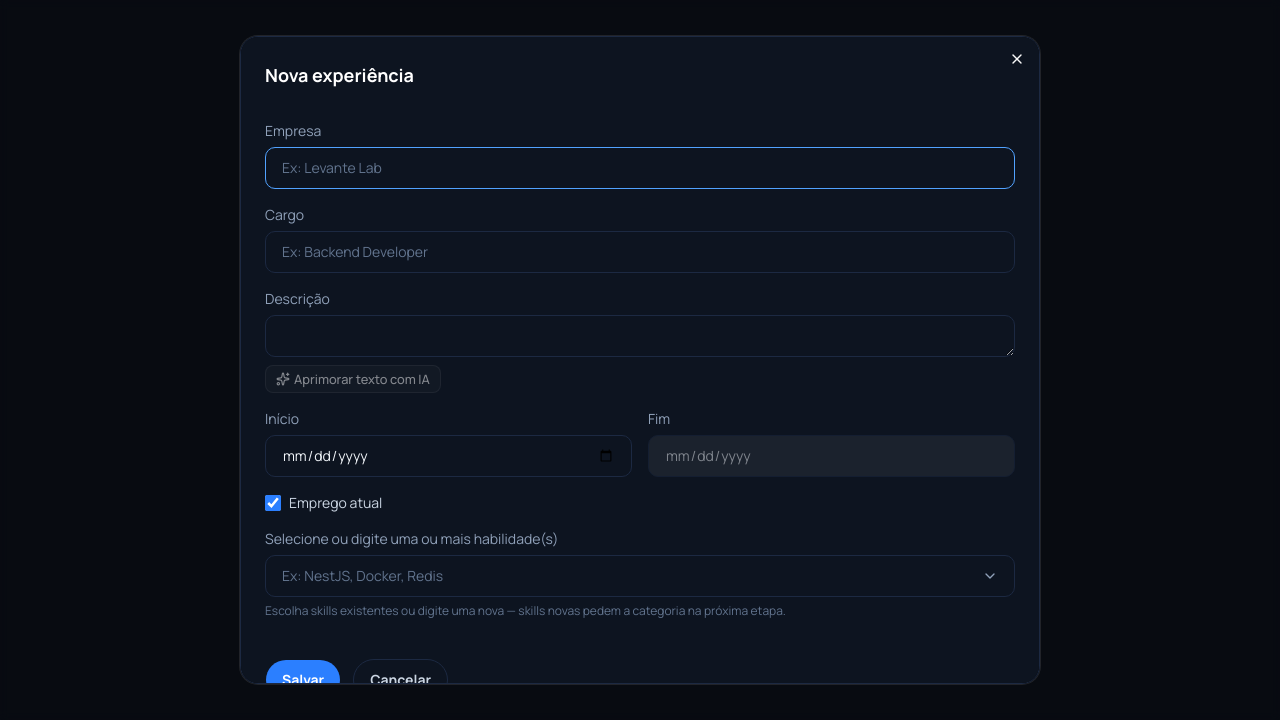
Test: ExperienceModal › shows an error and keeps the modal open when the api fails
Type "Levante Lab" into the field with placeholder "Ex: Levante Lab" at point(640, 168), box 265,147 -> 1015,189
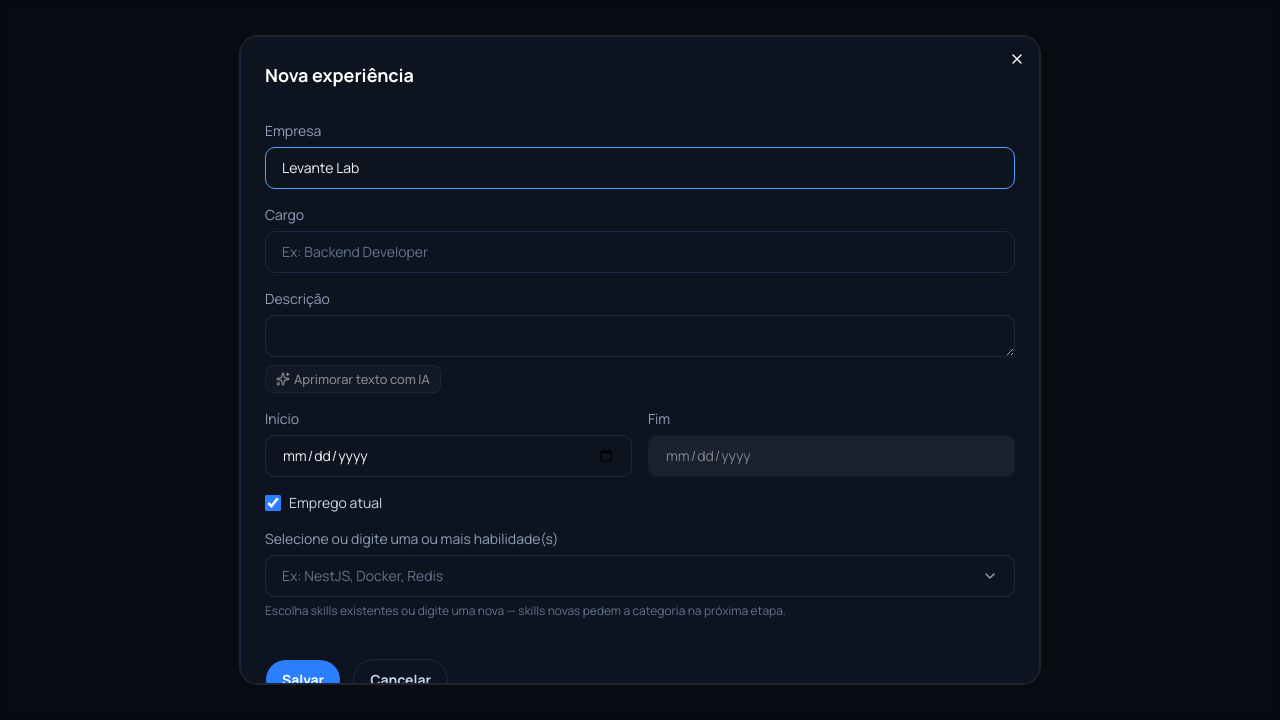
Type "Backend Developer" into the field with placeholder "Ex: Backend Developer" at point(640, 252), box 265,231 -> 1015,273
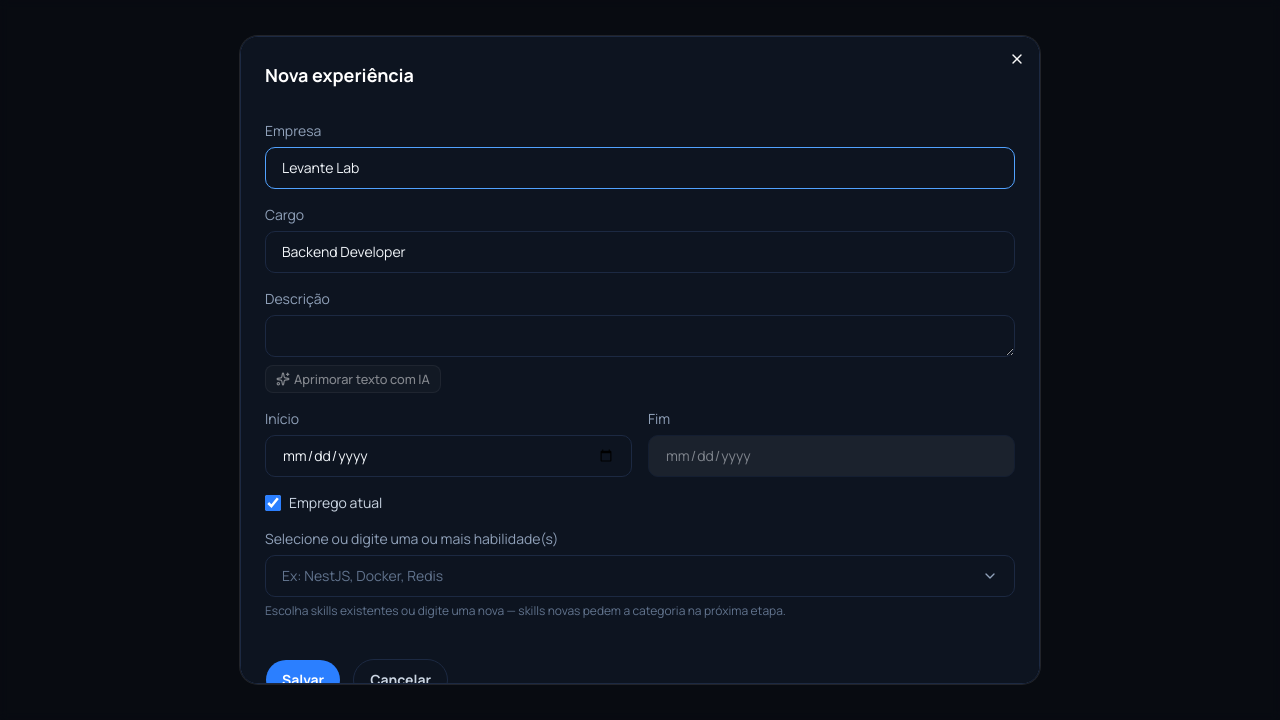
Type "APIs com NestJS e PostgreSQL." into the text box labelled "Descrição" at point(640, 336), box 265,315 -> 1015,357
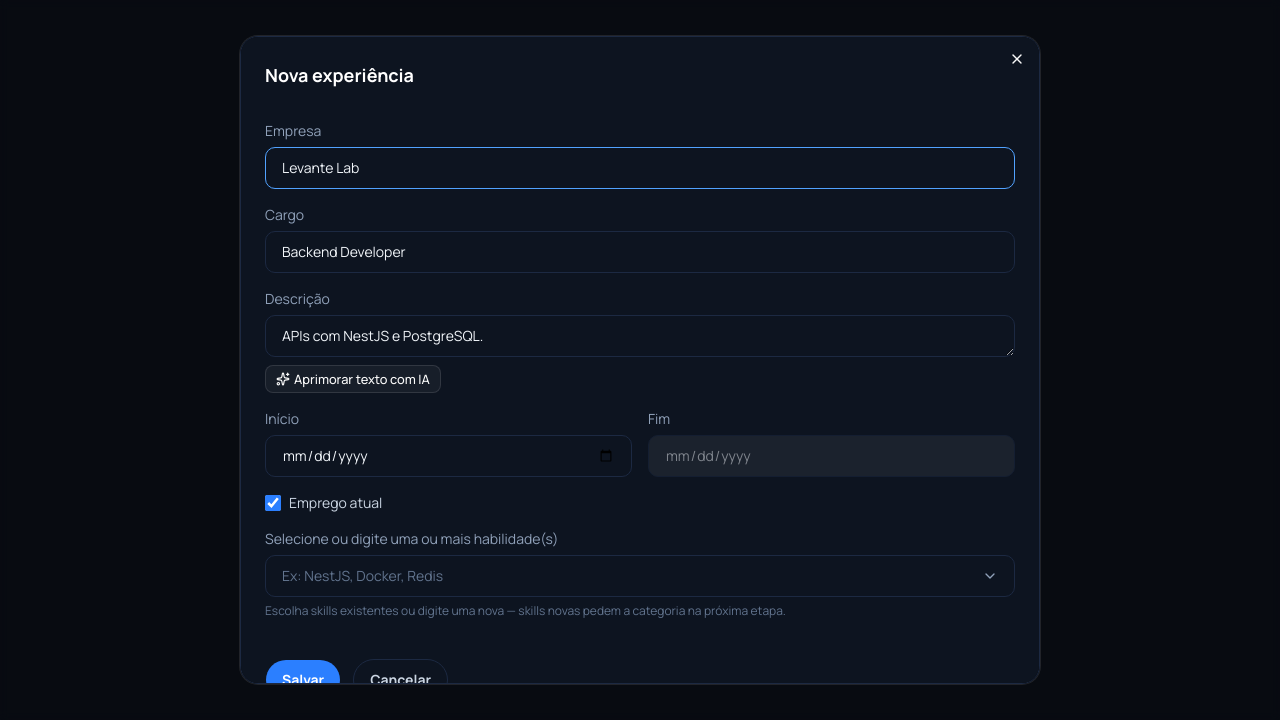
Type "2023-01-15" into the date field labelled "Início" at point(448, 456), box 265,435 -> 632,477
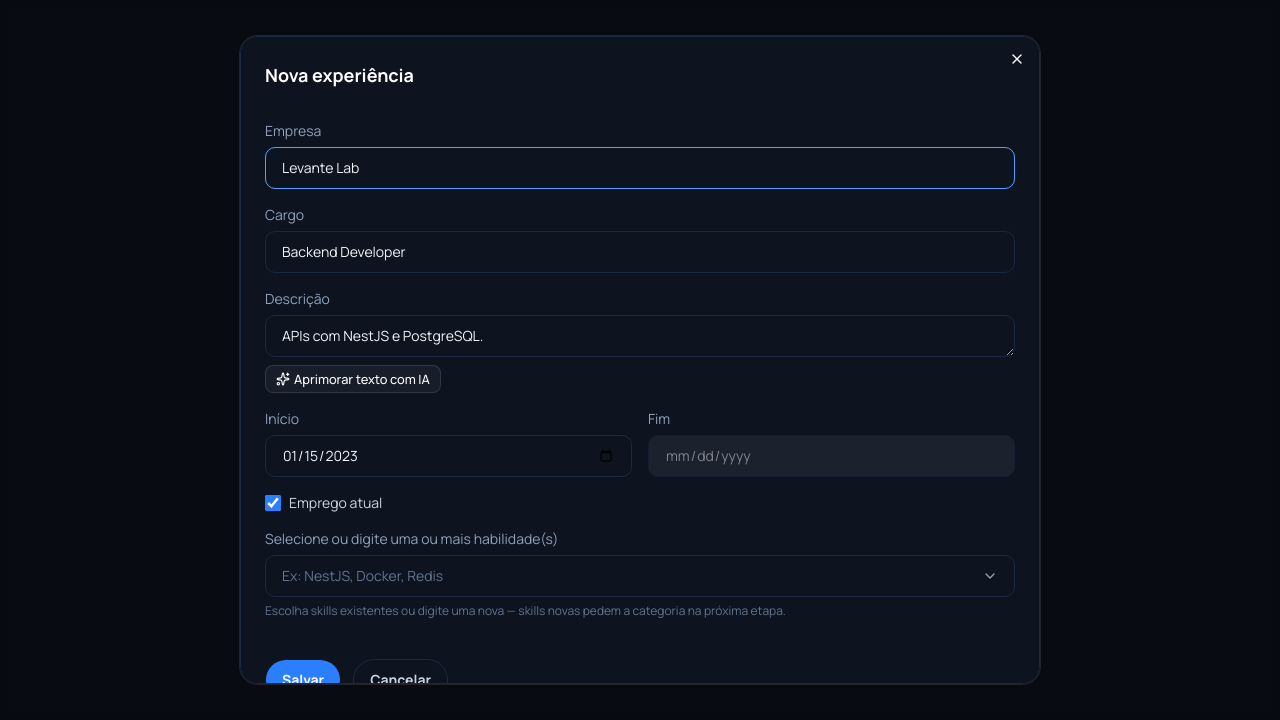
Click the button "Salvar" at point(303, 680), box 265,659 -> 341,701
(page scrolled)
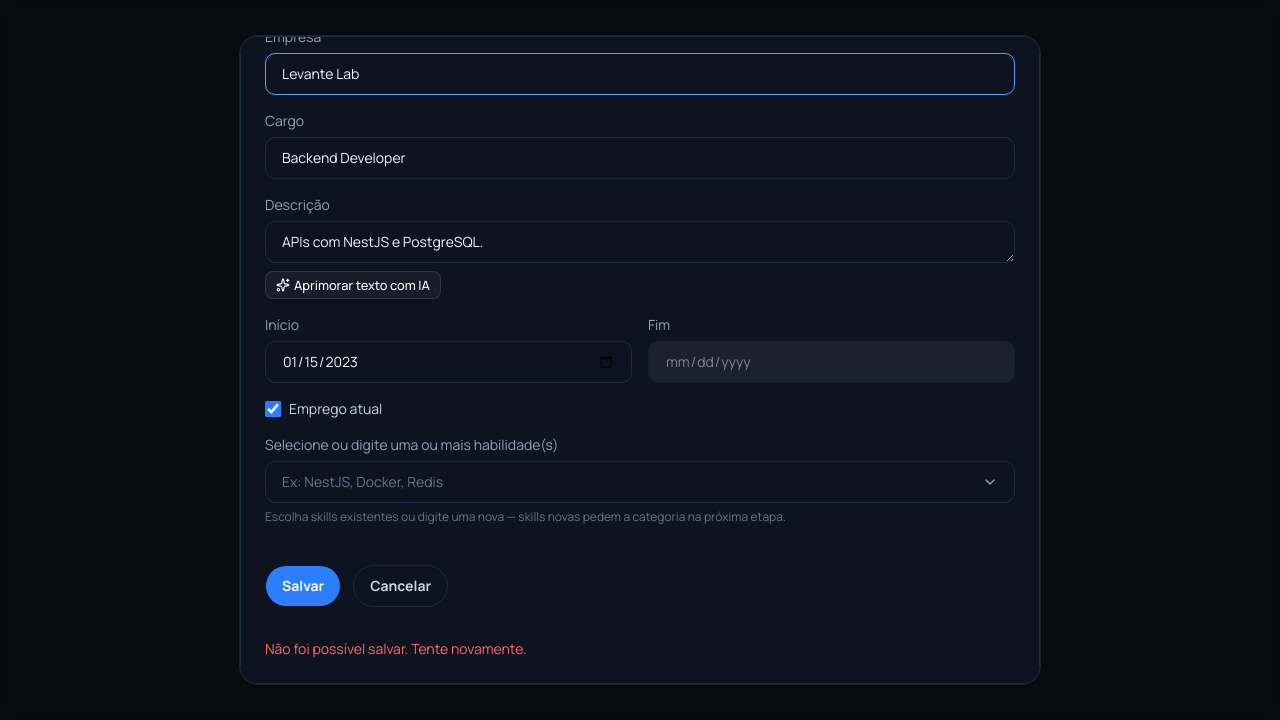
Now the text "Não foi possível salvar. Tente novamente." is shown, box 265,639 -> 527,658
